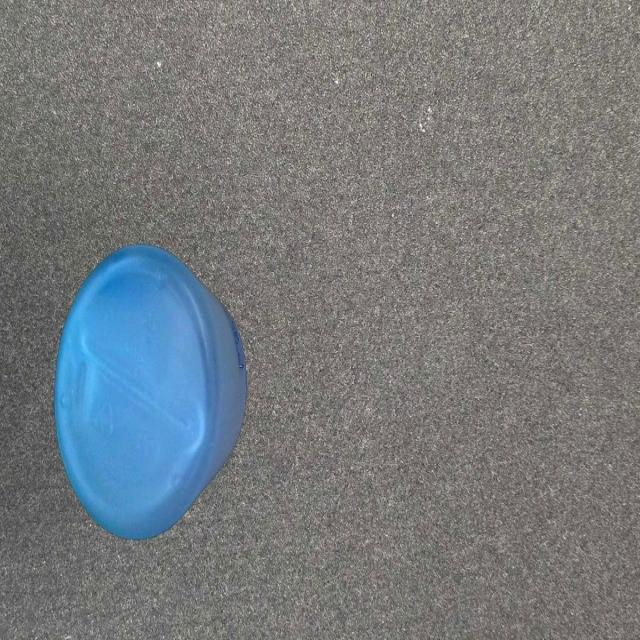bottle: (53, 240, 248, 545)
